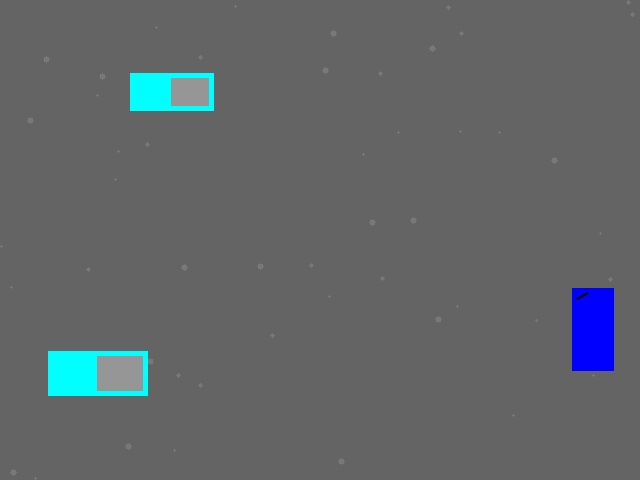motorcycle: (572, 288, 613, 370)
truck: (48, 351, 147, 395), (130, 73, 213, 110)
